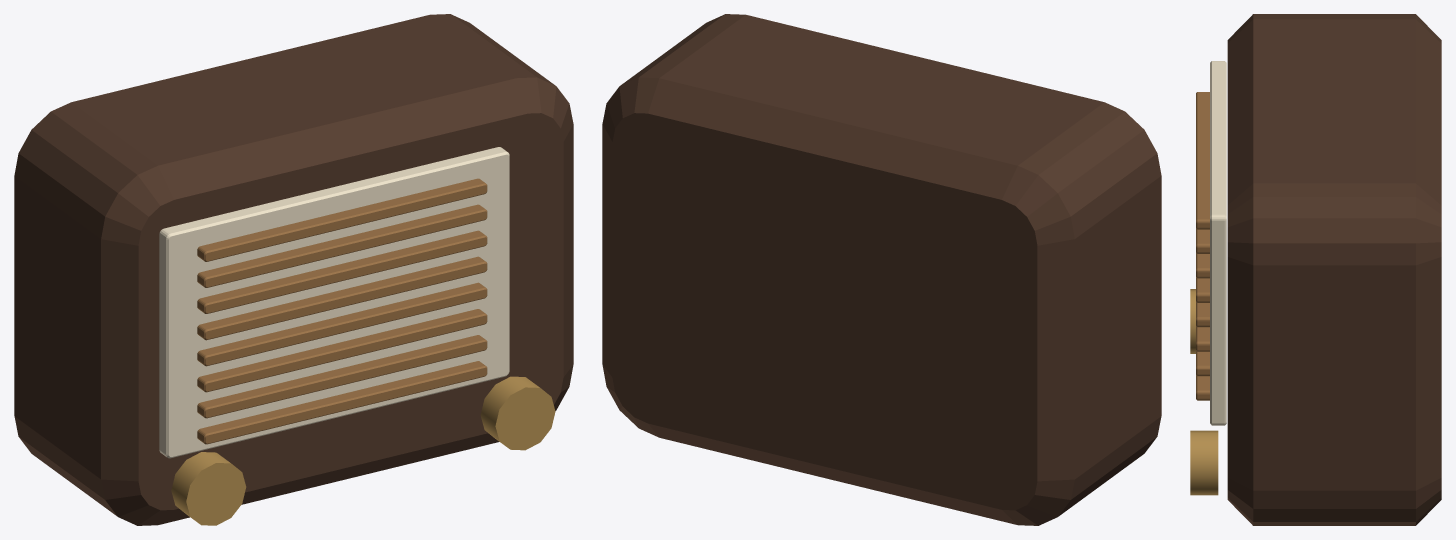
File: radio.glb
3 renders of one model, left to right at view 1: azimuth 30°, elevation 25°; view 2: azimuth 150°, elevation 25°; view 3: azimuth 270°, elevation 25°, orthographic. The views are drawn at different scales.
Parts seen in each view (by area): view 1: Cabinet, Speaker, Grille (×8), Dial (×2); view 2: Cabinet; view 3: Cabinet, Speaker, Grille (×8), Dial (×2).
Part boxes in pixels (bbox=[...]): Cabinet: bbox=[14, 14, 573, 525]; Speaker: bbox=[159, 147, 509, 458]; Grille (×8): bbox=[197, 178, 487, 444]; Dial (×2): bbox=[171, 376, 555, 525]; Cabinet: bbox=[602, 14, 1161, 525]; Cabinet: bbox=[1227, 14, 1441, 525]; Speaker: bbox=[1210, 61, 1226, 425]; Grille (×8): bbox=[1196, 92, 1209, 400]; Dial (×2): bbox=[1190, 289, 1218, 495].
Bounding box in the file's own units: 0.55 × 0.4 × 0.27.
